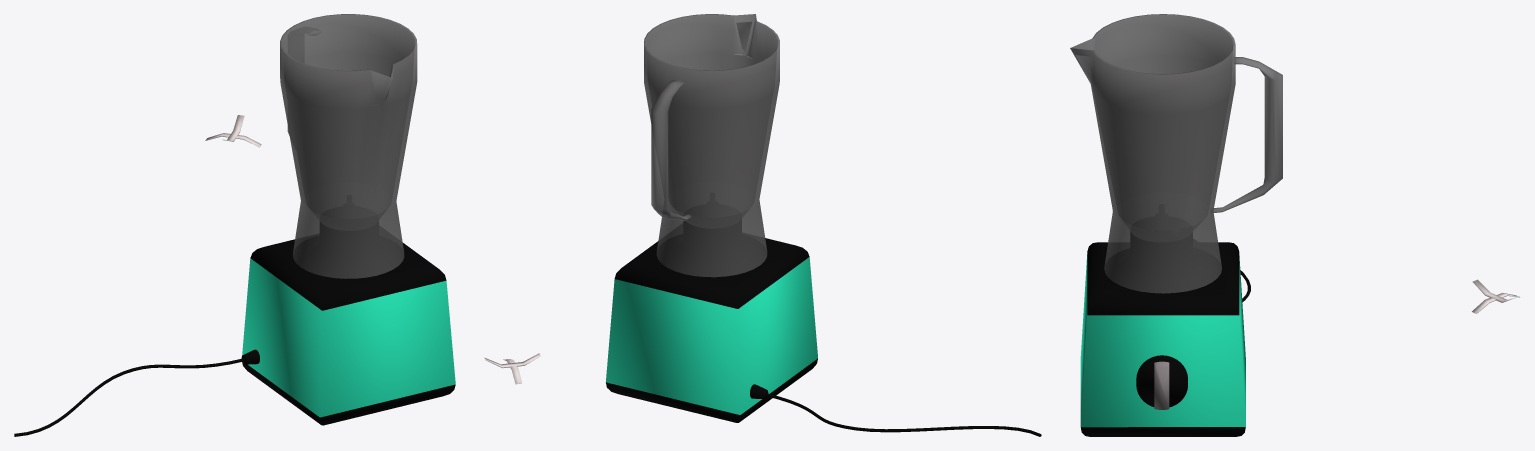
Rendered from betterblender.fbx.
3 views of the same model, side by side, from view 1: azimuth 30°, elevation 25°; view 2: azimuth 150°, elevation 25°; view 3: azimuth 270°, elevation 25° (orthographic). The views are drawn at different scales.
Visible parts, largest first — view 1: Blender, Wire, Blender.001; view 2: Blender, Wire; view 3: Blender, Blender.001.
Boxes of the visible parts, left/top/right/bottom form: Blender: left=241, top=14, right=455, bottom=425; Wire: left=14, top=358, right=244, bottom=436; Blender.001: left=205, top=115, right=261, bottom=147; Blender: left=605, top=14, right=817, bottom=422; Wire: left=765, top=393, right=1041, bottom=436; Blender: left=1070, top=14, right=1282, bottom=436; Blender.001: left=1472, top=279, right=1520, bottom=313.
Size of the model in its own units: 603 by 476 by 537.
